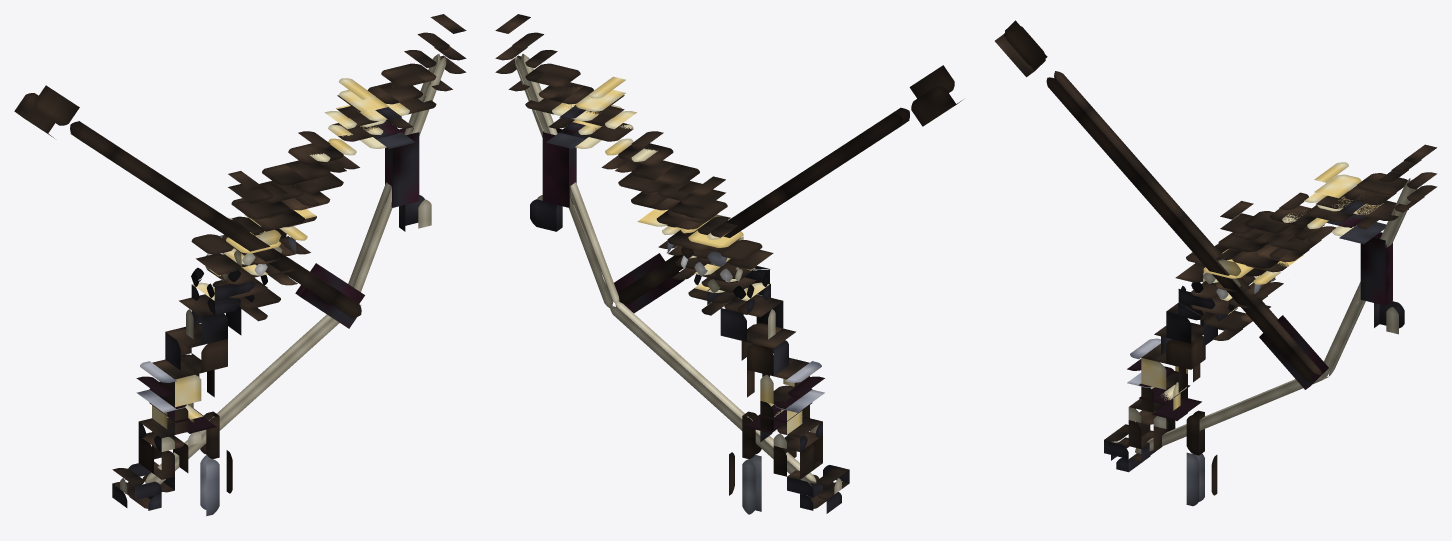
The model's file is mourners_bow_pulling_1.obj.
3 views of the same model, side by side, from view 1: azimuth 30°, elevation 25°; view 2: azimuth 150°, elevation 25°; view 3: azimuth 330°, elevation 25° (orthographic). The views are drawn at different scales.
Parts seen in each view (by area): view 1: lit, fire; view 2: lit, fire; view 3: lit, fire.
Part boxes in pixels (x1,y1,x2,y2): lit: (14,14,466,516); fire: (295,263,364,328); lit: (495,14,963,514); fire: (614,253,684,313); lit: (995,20,1437,506); fire: (1259,315,1328,389).
Size of the model in its own units: 1.05 by 1.11 by 0.125.
